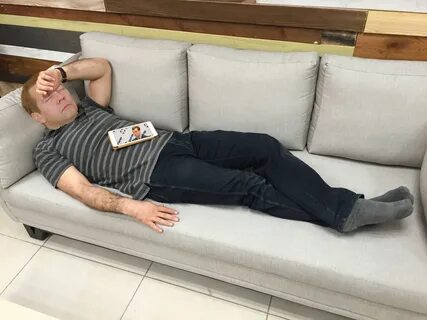sleep: (20, 65, 322, 235)
